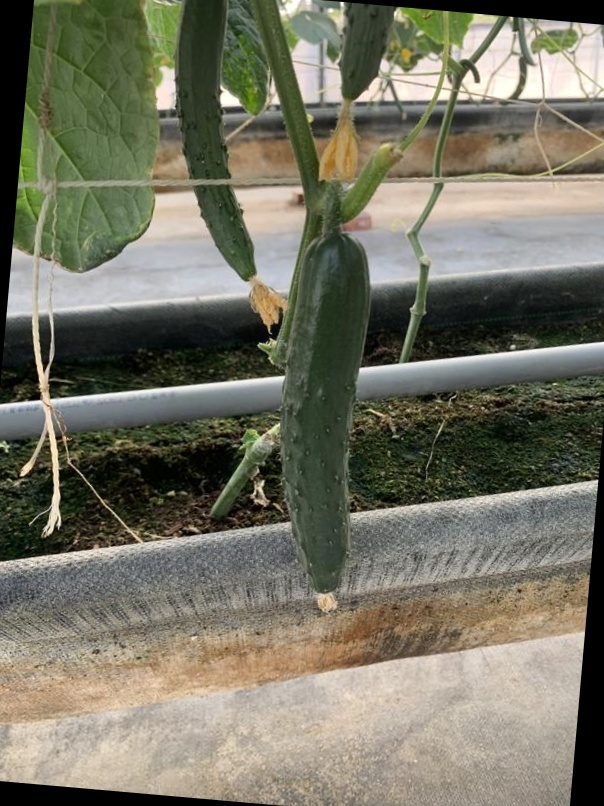mature: (279, 228, 373, 603), (171, 0, 265, 282)
